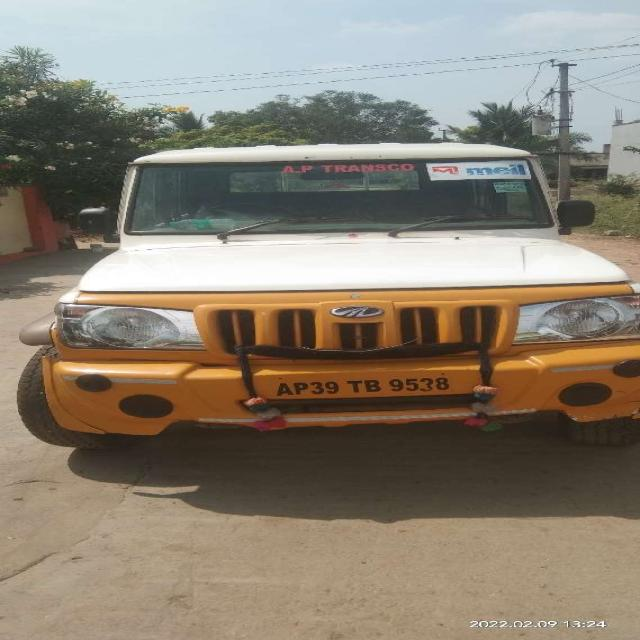light_vehicle: (20, 150, 629, 432)
